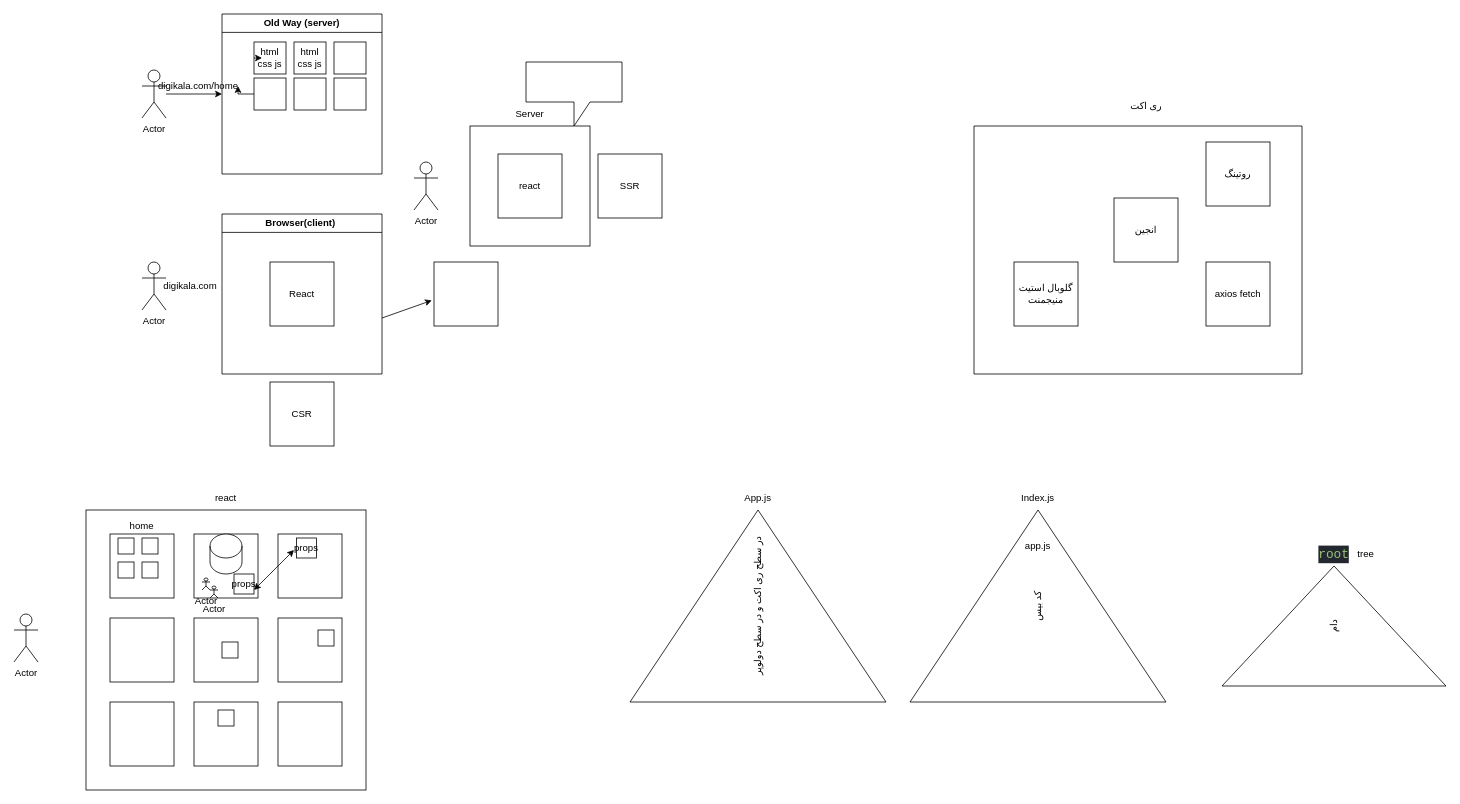
The diagram is 1460 pixels wide and 804 high, and some of its shapes have lost their labels. The centre of each missing label's shape, as x and y in pixels:
"backend" belongs at point (465, 293).
"Nextjs" belongs at point (573, 93).
"state" belongs at point (225, 553).
